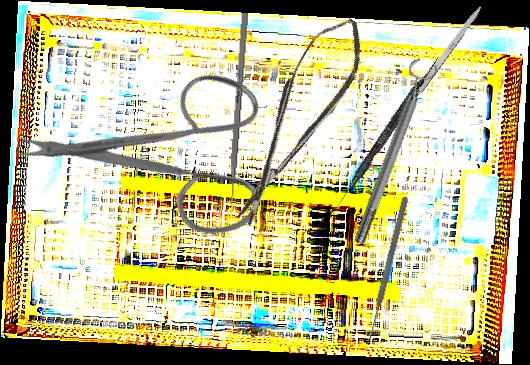Fixation Ring: (343, 56, 441, 248)
Iris Scissors: (5, 8, 314, 313)
Micro Scissor: (213, 7, 380, 233)
Pusher: (365, 196, 410, 341), (226, 13, 249, 222)
Scalpel Handle: (406, 1, 485, 107)
Spatula Surgical: (328, 54, 441, 219)
